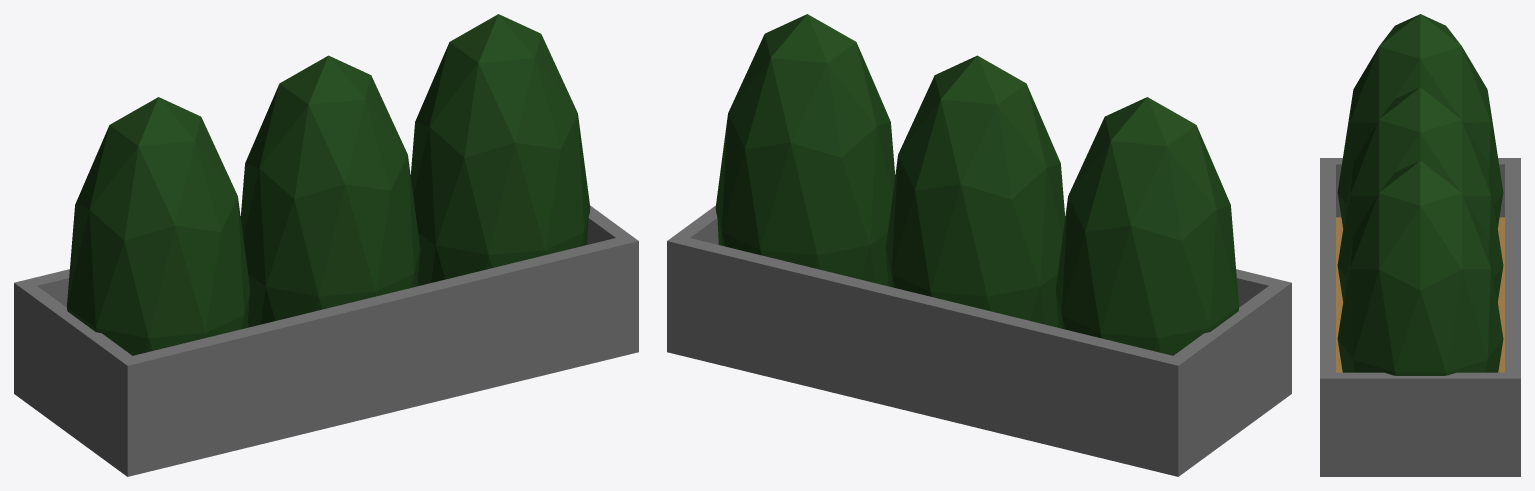
The model's file is BushesGray.obj.
3 renders of one model, left to right at view 1: azimuth 30°, elevation 25°; view 2: azimuth 150°, elevation 25°; view 3: azimuth 270°, elevation 25°, orthographic. The views are drawn at different scales.
Visible parts, largest first — view 1: Icosphere; view 2: Icosphere; view 3: Icosphere.
Part boxes in pixels (x1,y1,x2,y2): Icosphere: [14, 14, 638, 476]; Icosphere: [667, 14, 1291, 476]; Icosphere: [1320, 14, 1520, 476].
Size of the model in its own units: 5.2 by 3.08 by 2.
